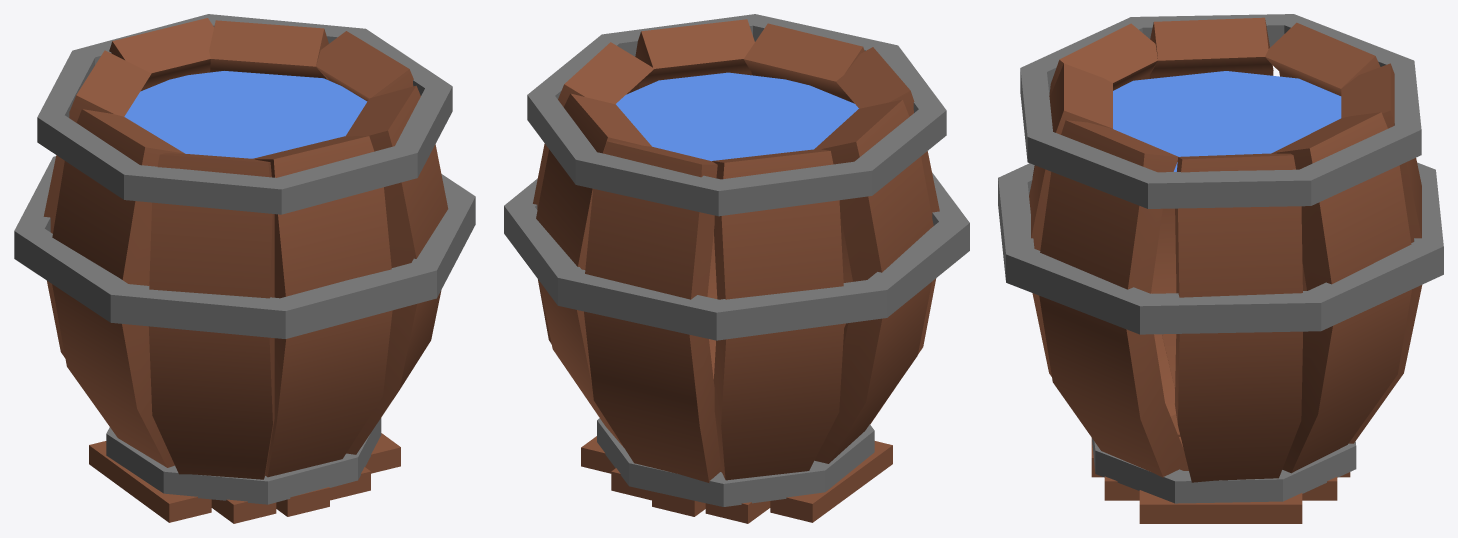
Rendered from Wooden Barrel with water.fbx.
The picture shows the model from 3 angles, left to right: view 1: azimuth 30°, elevation 25°; view 2: azimuth 150°, elevation 25°; view 3: azimuth 270°, elevation 25°; orthographic projection.
Parts seen in each view (by area): view 1: Wooden_Barrel_with_water; view 2: Wooden_Barrel_with_water; view 3: Wooden_Barrel_with_water.
Part boxes in pixels (box(x1,y1,x2,y2)): Wooden_Barrel_with_water: box(14, 14, 475, 523); Wooden_Barrel_with_water: box(504, 14, 969, 523); Wooden_Barrel_with_water: box(998, 14, 1443, 523).
Bounding box in the file's own units: 0.2817 × 0.2645 × 0.2817.
